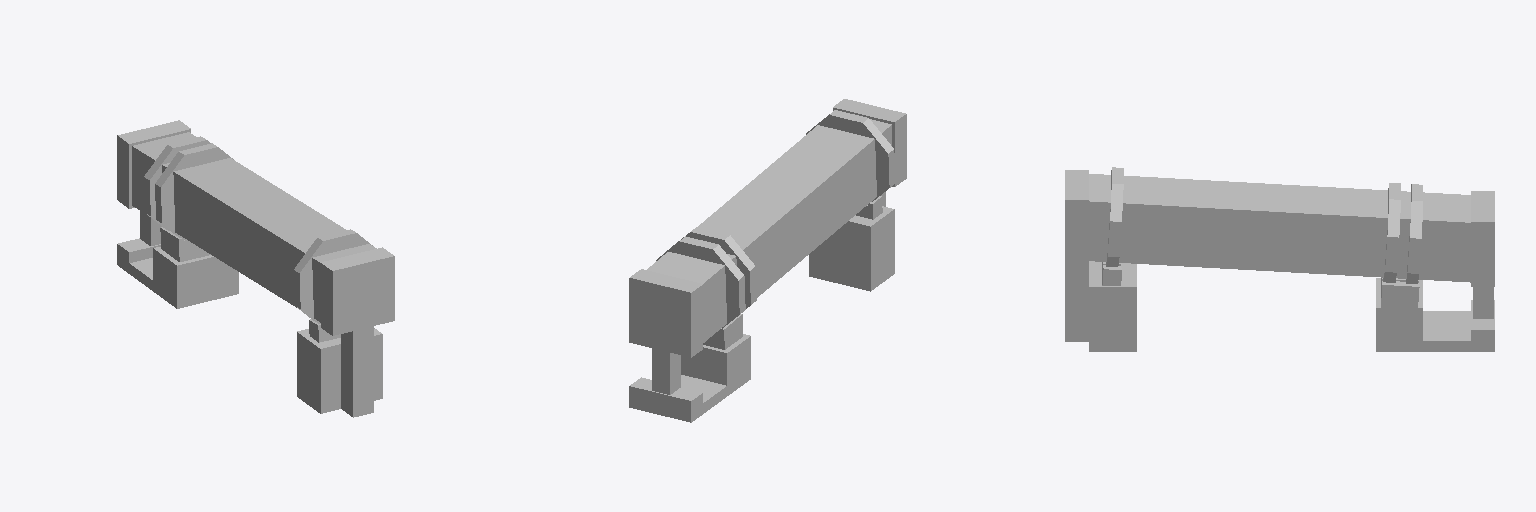
Rendered from rotary_kiln_complete.obj.
The picture shows the model from 3 angles: view 1: azimuth 30°, elevation 25°; view 2: azimuth 150°, elevation 25°; view 3: azimuth 270°, elevation 25°; orthographic projection.
Visible parts, largest first — view 1: cube; view 2: cube; view 3: cube.
Part boxes in pixels (x1,y1,x2,y2): cube: (117, 120, 394, 417); cube: (629, 99, 906, 422); cube: (1065, 167, 1494, 351).
Size of the model in its own units: 4 by 7.43 by 18.